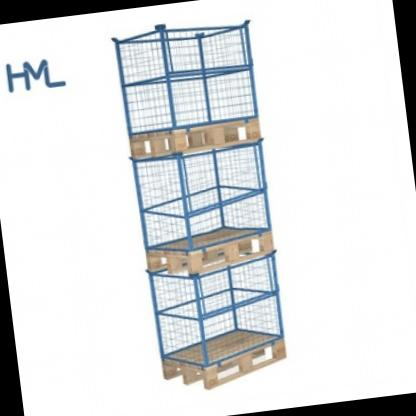BoxFace: (142, 225, 275, 278), (126, 118, 265, 157)
